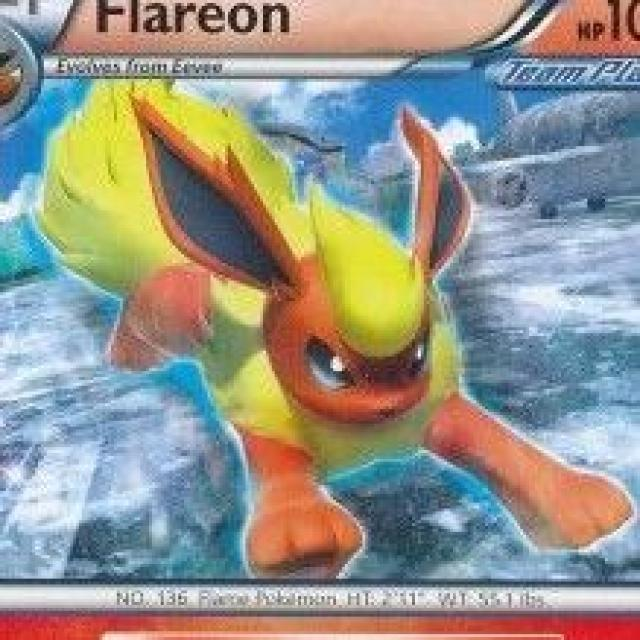Flareon: (113, 83, 484, 576)
